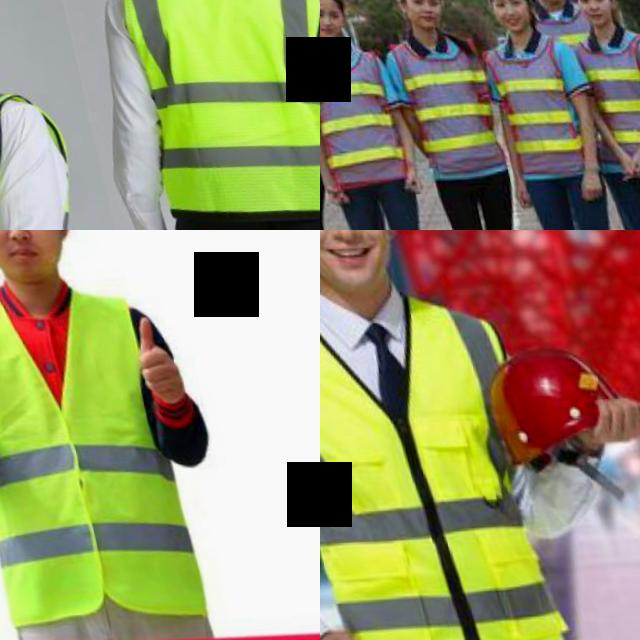vest: (320, 284, 581, 640), (0, 251, 204, 632), (113, 0, 320, 219), (475, 26, 595, 174), (393, 34, 503, 158), (320, 45, 412, 173), (568, 17, 640, 166)
